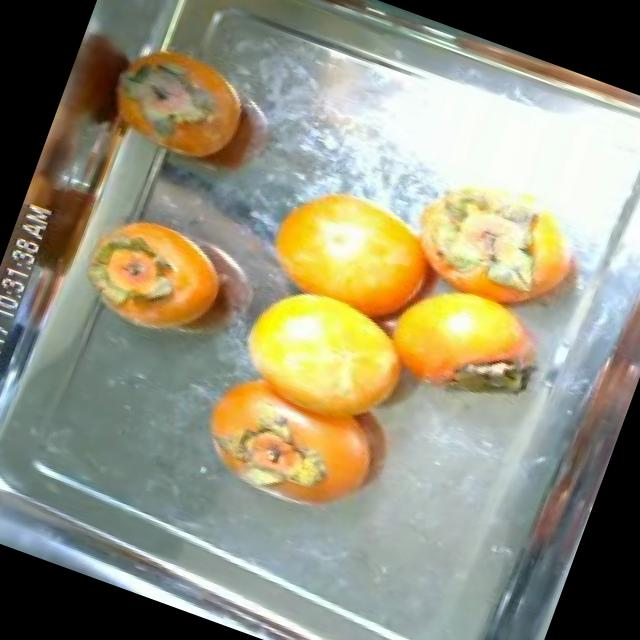Fruit: (238, 156, 454, 346), (213, 254, 432, 440), (175, 346, 372, 527), (54, 192, 256, 368)
